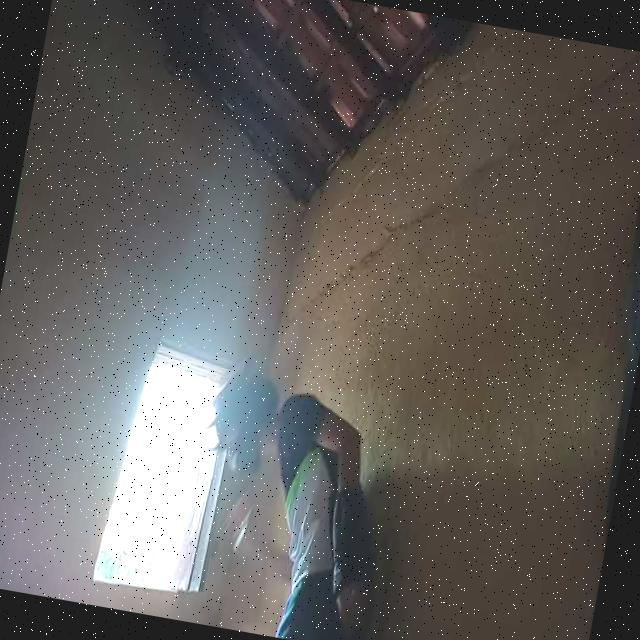capacete: (200, 363, 282, 472)
pessoa: (176, 367, 410, 640)
